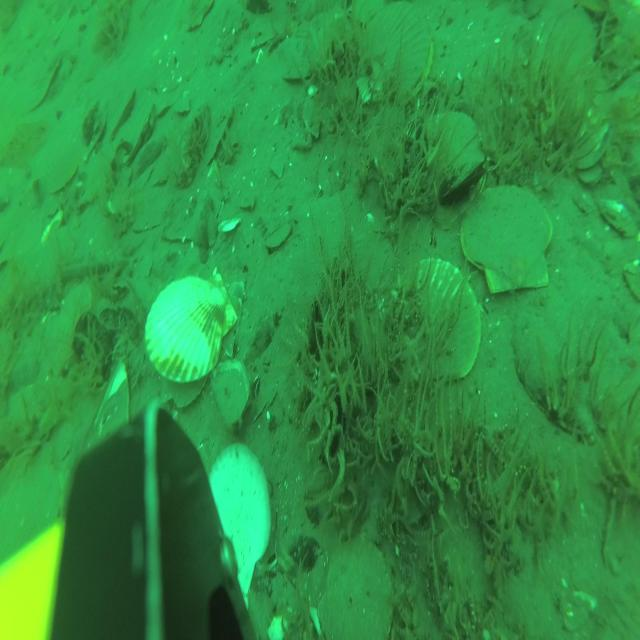scallop: (144, 267, 237, 403), (396, 262, 482, 381), (460, 191, 554, 295), (206, 444, 270, 594), (313, 534, 397, 640), (362, 4, 436, 101), (417, 114, 488, 191), (536, 9, 596, 94), (47, 151, 78, 197), (265, 222, 296, 255)
